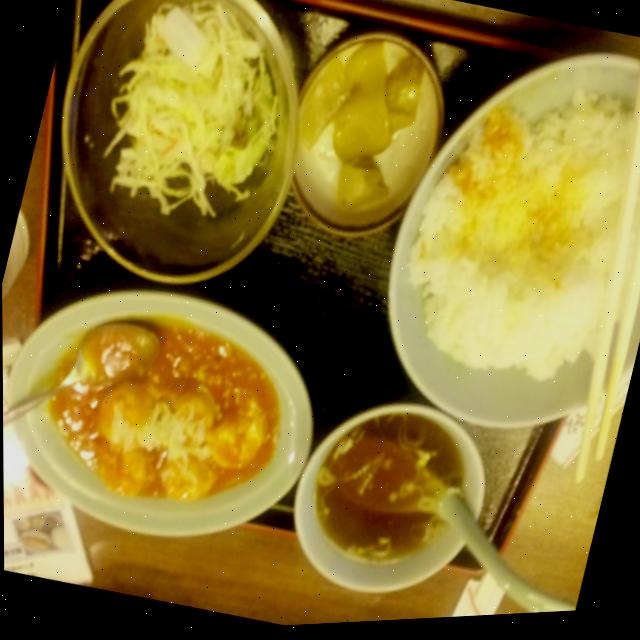汤锅炖物: (266, 383, 502, 629)
熟制海鲜: (2, 251, 340, 576)
米饭主食: (356, 19, 640, 479)
蔬菜料理: (23, 0, 332, 318)
